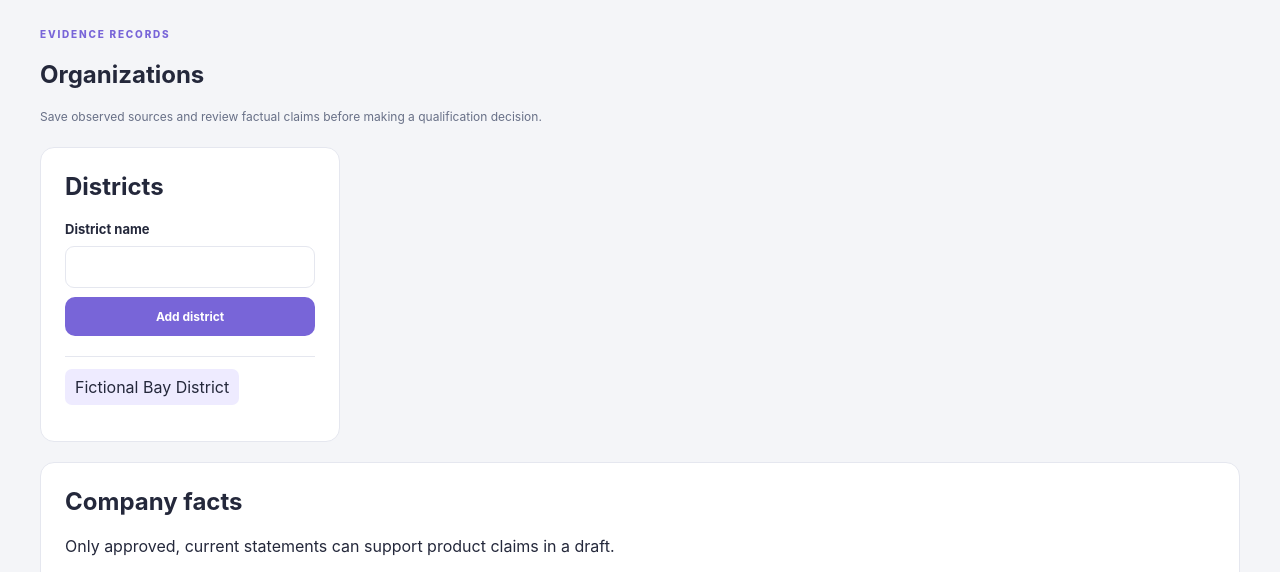
Test: shows the pending continuation without an automatic run control
This screenshot has width=1280, height=572.
Click the button "Fictional Bay District" at (152, 387), box x1=65 y1=369 x2=239 y2=405
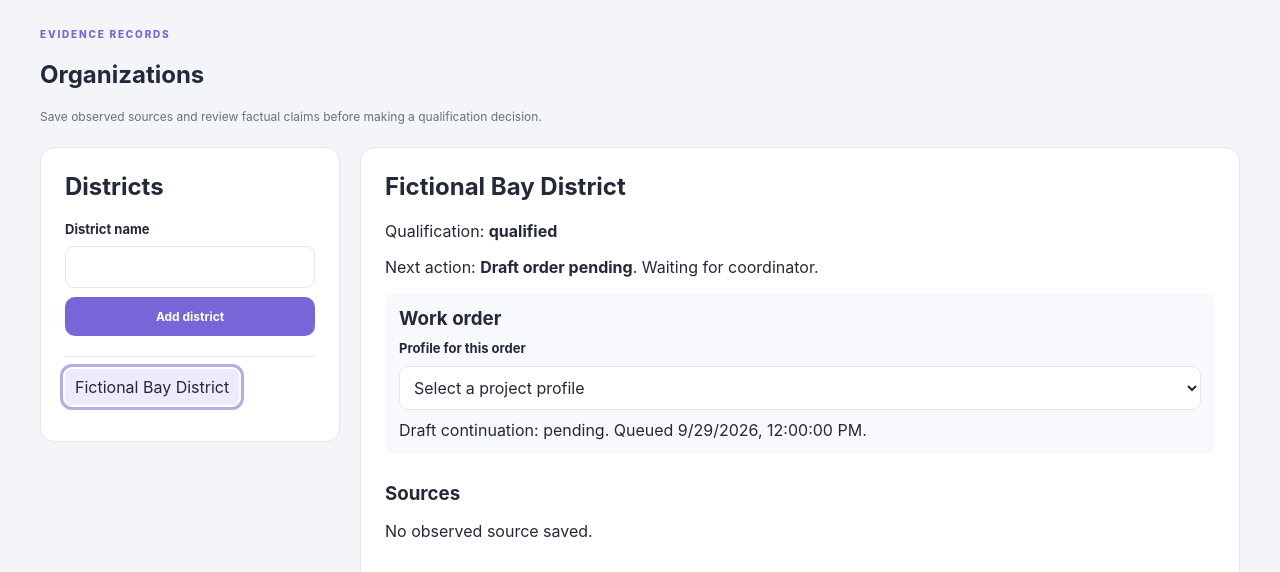
expect the button "Start draft run" is not shown: met
expect the text "Draft continuation: pending. Queued 9/29/2026, 12:00:00 PM." is shown: met, box x1=399 y1=420 x2=867 y2=440
Click the button "Fictional Bay District" at (152, 387), box x1=65 y1=369 x2=239 y2=405
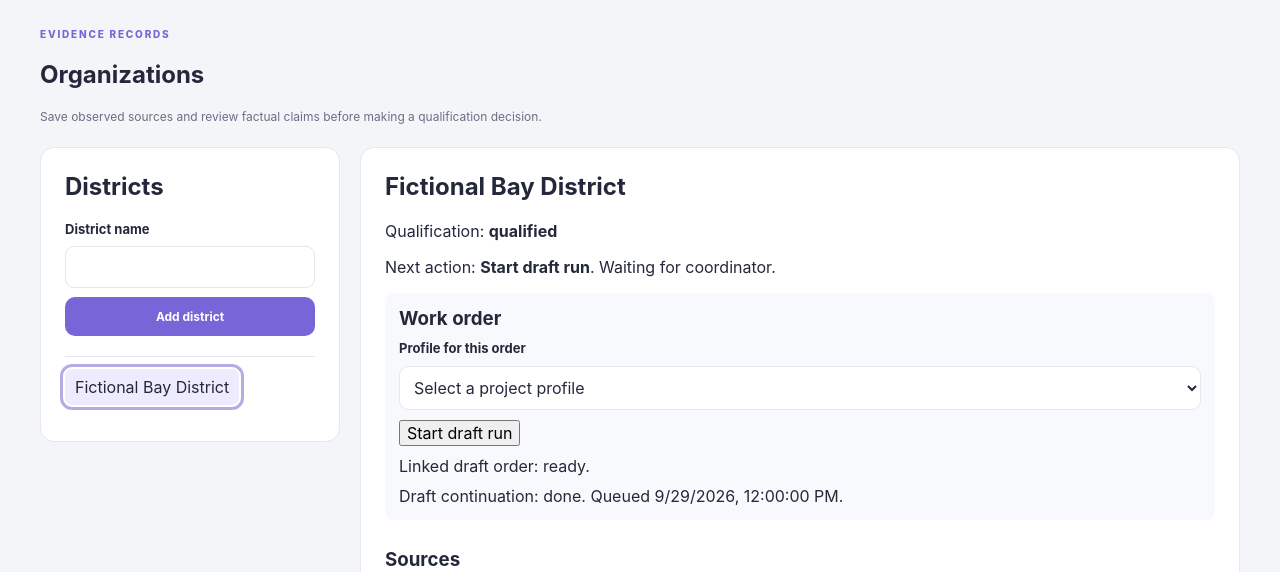
expect the button "Start draft run" is shown: met, box x1=399 y1=420 x2=520 y2=446
